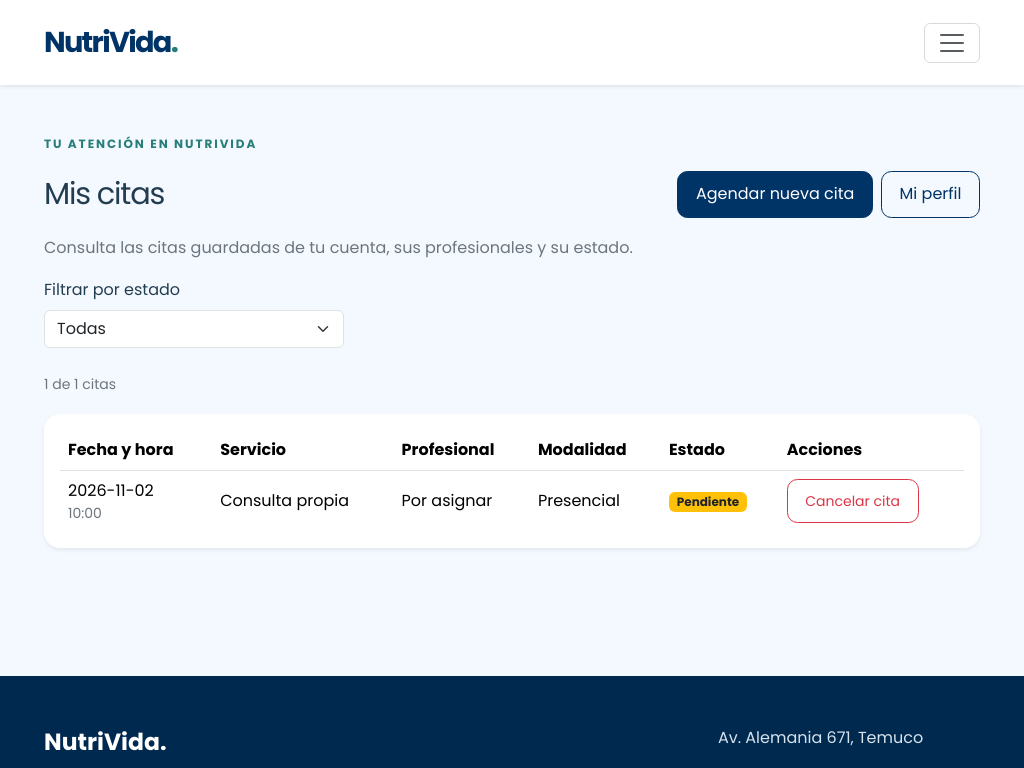
Perfil y citas personales › cancela solo una cita propia y mantiene las citas de otras personas
The image size is (1024, 768).
Click the button "Cancelar cita" at [853, 501], box [787, 479, 919, 523]
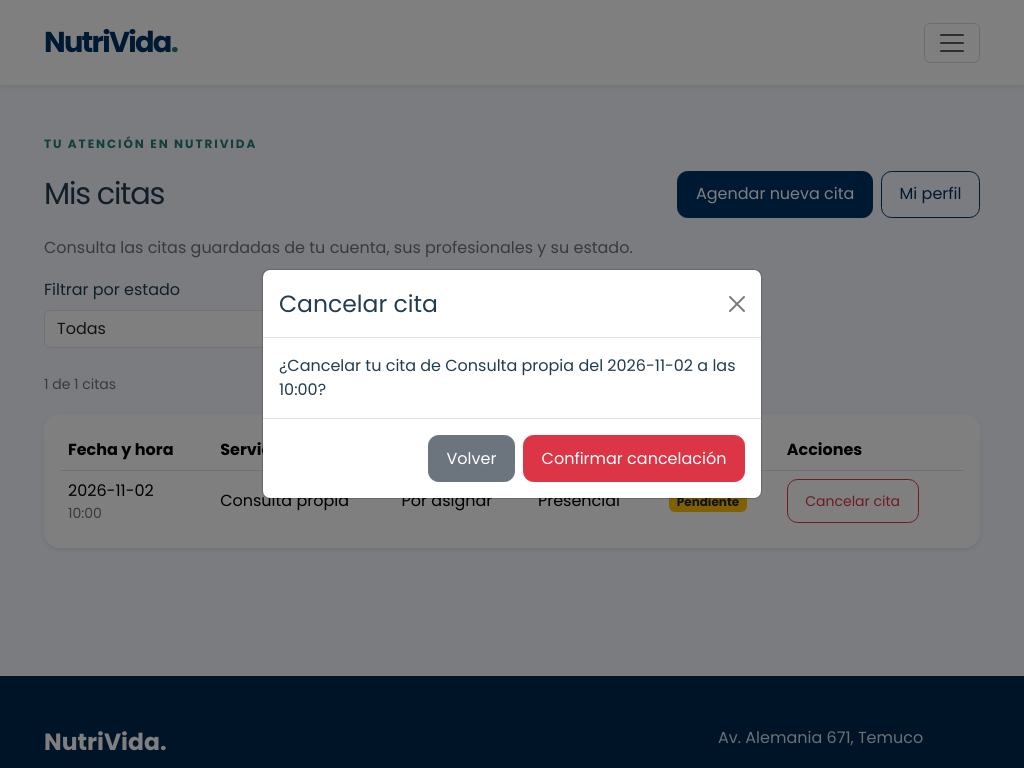
Click the button "Confirmar cancelación" at [634, 459], box [523, 435, 745, 482]
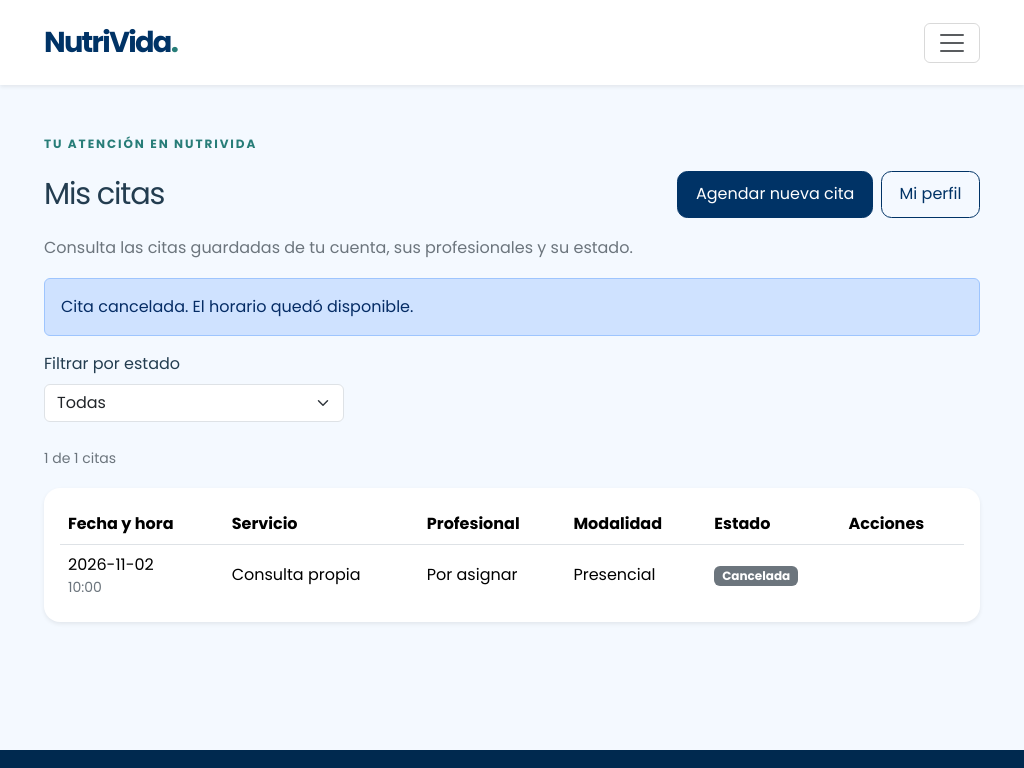
Expected: the message shows "Cita cancelada", [61, 295, 413, 318]
